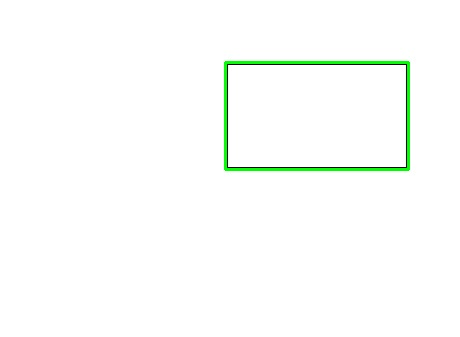line_segment: (224, 61, 410, 171)
